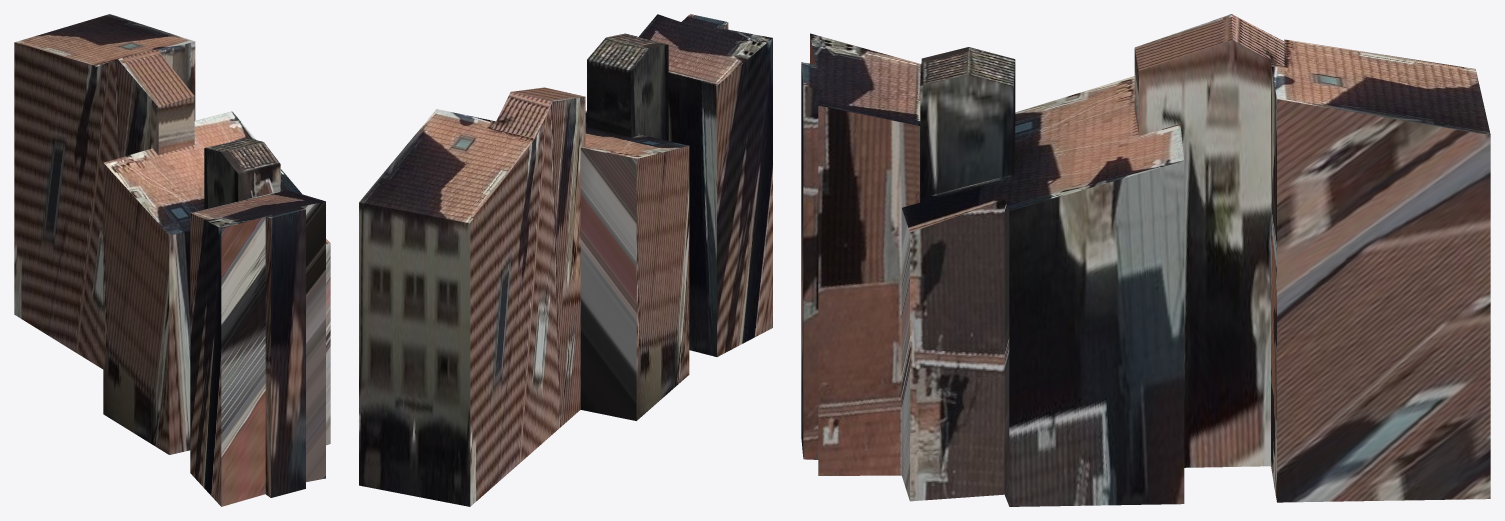
3 views of the same model, side by side, from view 1: azimuth 30°, elevation 25°; view 2: azimuth 150°, elevation 25°; view 3: azimuth 270°, elevation 25° (orthographic). The views are drawn at different scales.
Visible parts, largest first — view 1: Z_UP; view 2: Z_UP; view 3: Z_UP.
Boxes of the visible parts, left/top/right/bottom form: Z_UP: left=14, top=14, right=330, bottom=506; Z_UP: left=359, top=14, right=772, bottom=506; Z_UP: left=801, top=14, right=1490, bottom=506.
Size of the model in its own units: 8.96 by 17.63 by 25.81.
2 materials, 1 textured.
